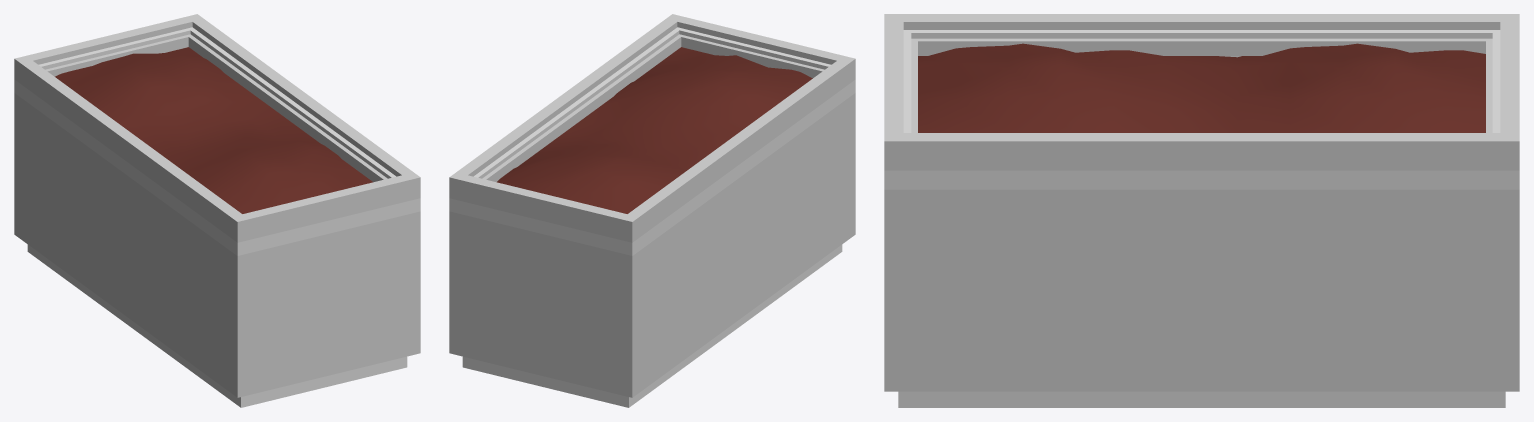
The model's file is Corridor Pot Large.fbx.
3 renders of one model, left to right at view 1: azimuth 30°, elevation 25°; view 2: azimuth 150°, elevation 25°; view 3: azimuth 270°, elevation 25°, orthographic. The views are drawn at different scales.
Visible parts, largest first — view 1: Pot Double; view 2: Pot Double; view 3: Pot Double.
Part boxes in pixels (left/top/right/bottom): Pot Double: left=14, top=14, right=420, bottom=407; Pot Double: left=449, top=14, right=855, bottom=407; Pot Double: left=884, top=14, right=1519, bottom=407.
Size of the model in its own units: 0.9 by 0.9026 by 1.9.
